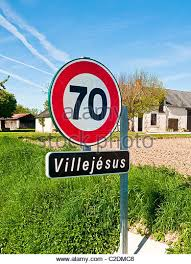Speed_limit_70km: (49, 56, 123, 146)
